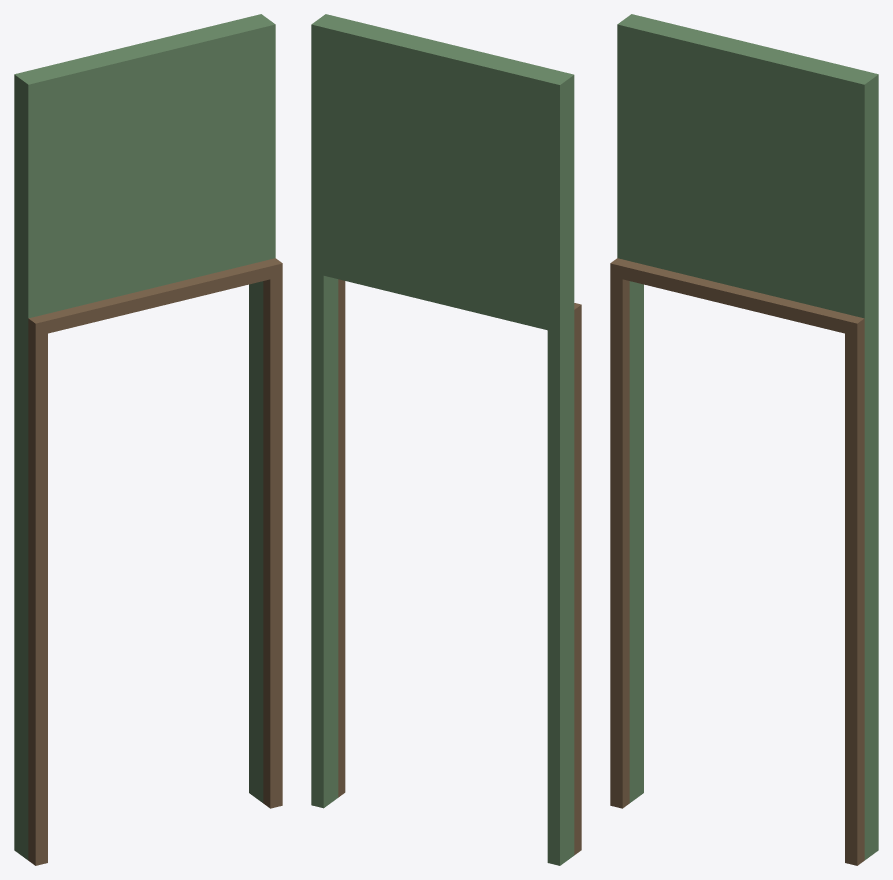
File: Mesh_DoorHole_06.fbx
3 renders of one model, left to right at view 1: azimuth 30°, elevation 25°; view 2: azimuth 150°, elevation 25°; view 3: azimuth 330°, elevation 25°, orthographic.
Parts seen in each view (by area): view 1: Mesh_DoorHole_06; view 2: Mesh_DoorHole_06; view 3: Mesh_DoorHole_06.
Part boxes in pixels (left/top/right/bottom): Mesh_DoorHole_06: left=14, top=14, right=282, bottom=865; Mesh_DoorHole_06: left=311, top=14, right=581, bottom=865; Mesh_DoorHole_06: left=610, top=14, right=878, bottom=865.
Size of the model in its own units: 1 by 3 by 0.15.
